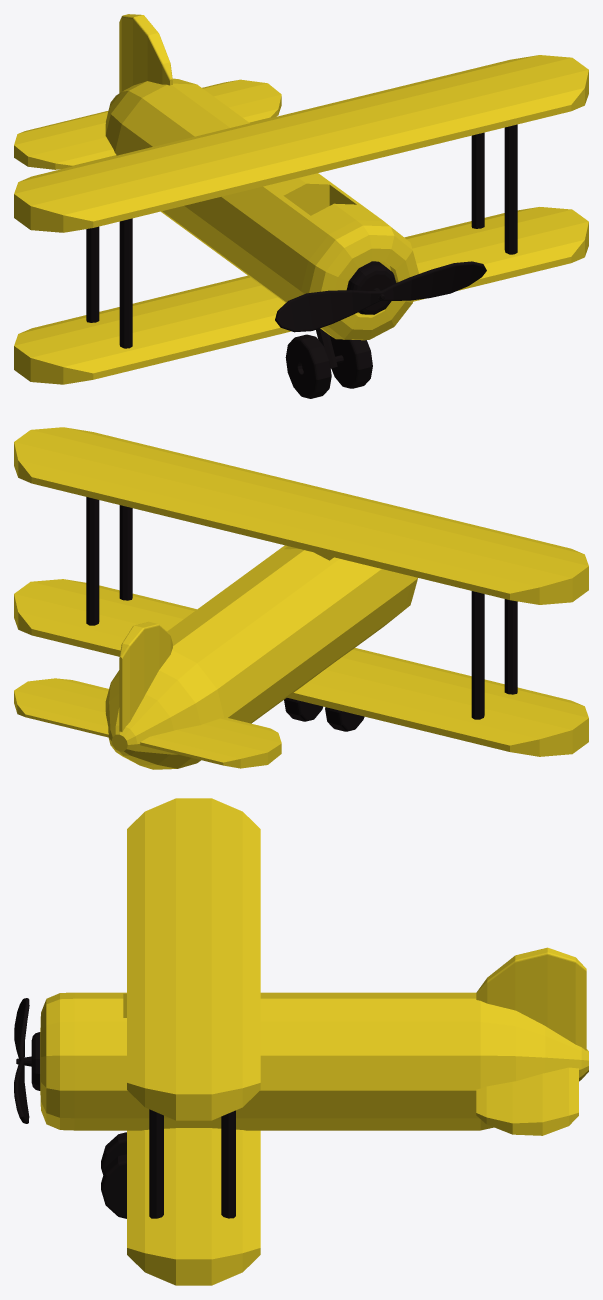
The model's file is Toy air plane.fbx.
The picture shows the model from 3 angles, top to bottom: view 1: azimuth 30°, elevation 25°; view 2: azimuth 150°, elevation 25°; view 3: azimuth 270°, elevation 25°; orthographic projection. The views are drawn at different scales.
Visible parts, largest first — view 1: Toy air plane; view 2: Toy air plane; view 3: Toy air plane.
Part boxes in pixels (<box>): Toy air plane: <box>14,14,588,398</box>; Toy air plane: <box>14,427,588,769</box>; Toy air plane: <box>14,798,588,1285</box>.
Size of the model in its own units: 160 by 65.43 by 131.
